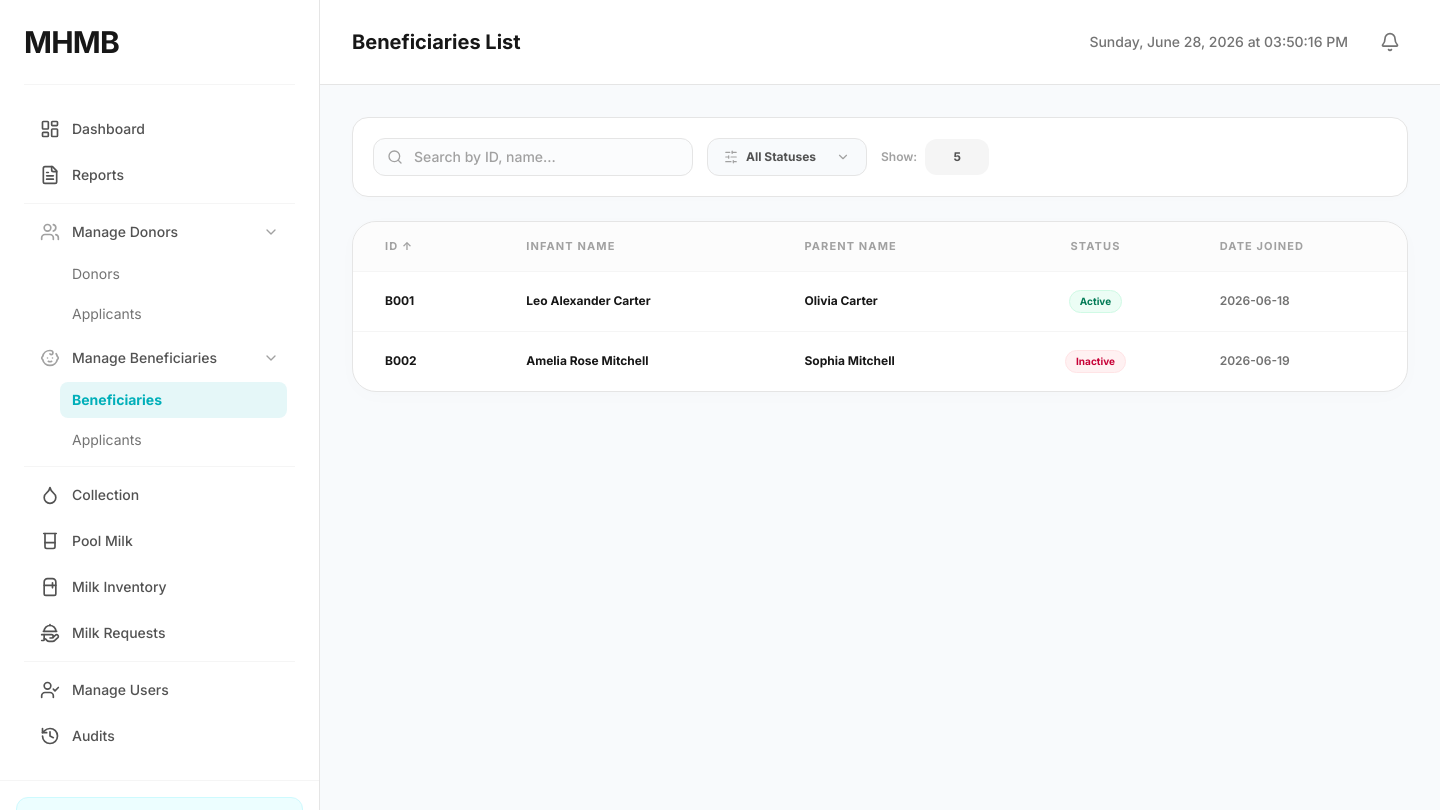
Test: StaffBeneficiariesManagement Component › opens detailed profile modal when clicking a row
The width and height of the screenshot is (1440, 810).
expect the text "Leo Alexander Carter" is shown: met, box [494, 271, 772, 331]
Note: Click Leo Carter row
Click the row with test id "row-B001": (880, 301) [353, 271, 1407, 331]
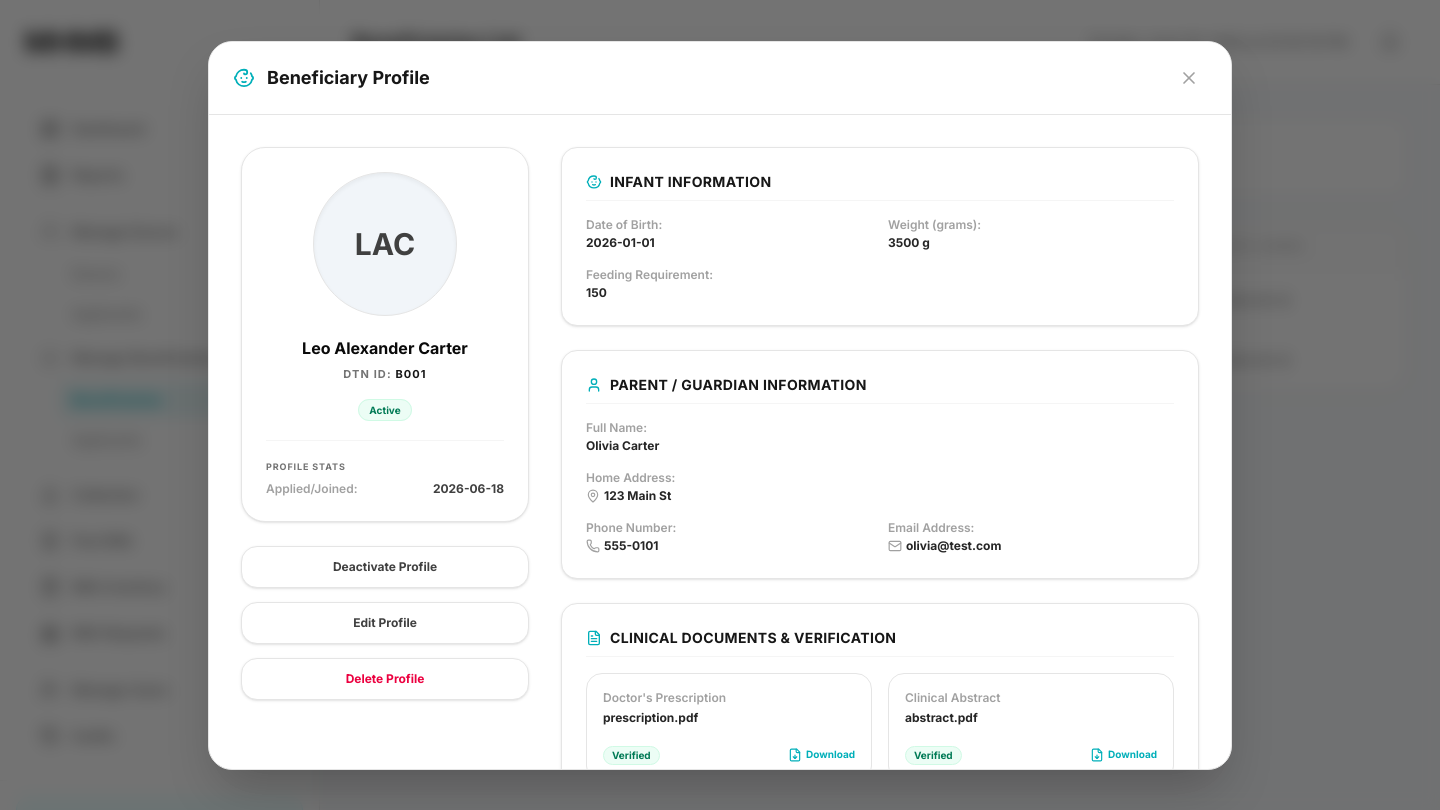
expect the element with test id "detail-modal" is shown: met
expect the heading with test id "modal-profile-name" reads "Leo Alexander Carter": met, box [302, 338, 468, 358]
expect the text with test id "modal-profile-id" reads "B001": met, box [395, 366, 427, 380]
Note: Click close button
Click the button with test id "close-detail-btn": (1189, 78) [1171, 60, 1207, 96]
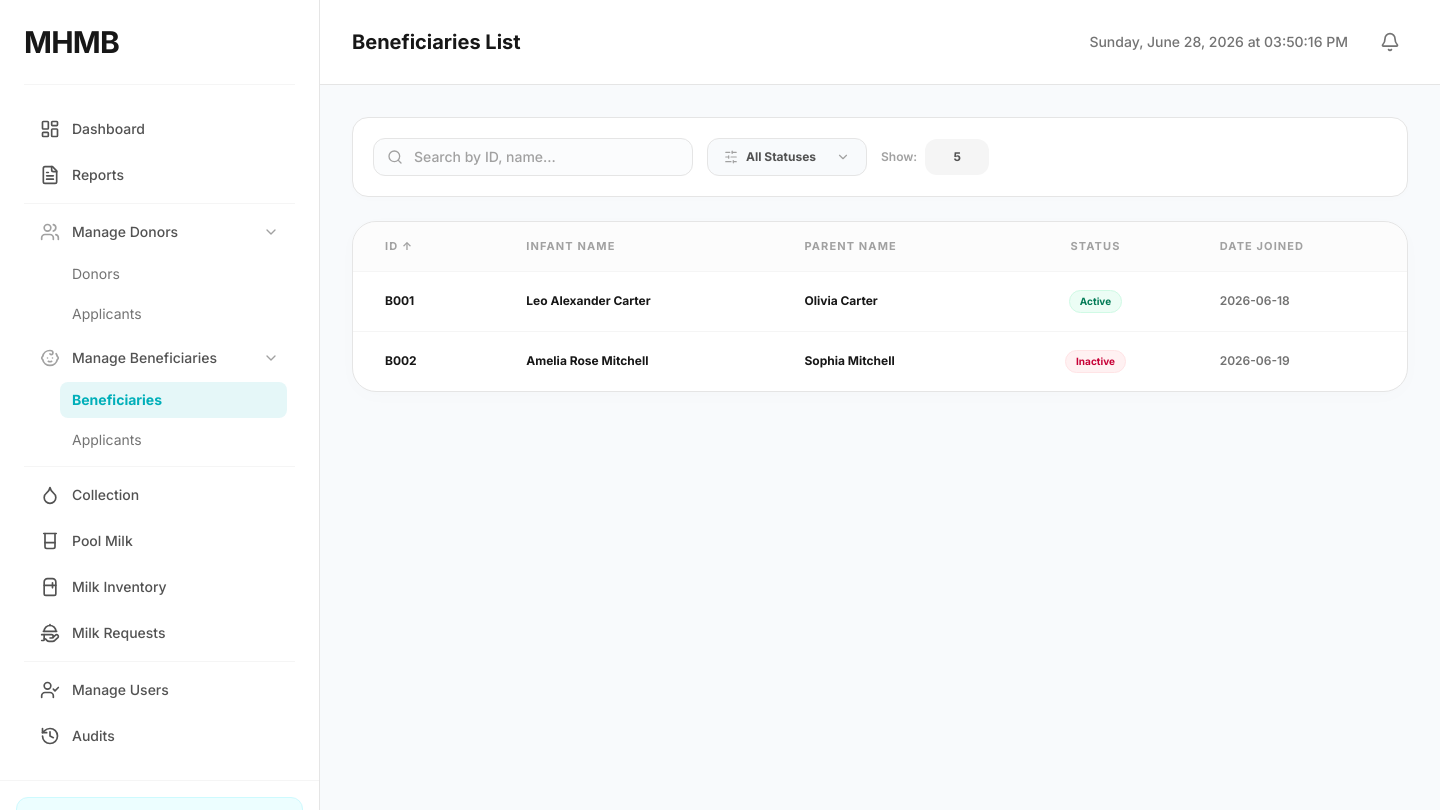
expect the element with test id "detail-modal" is gone: met
